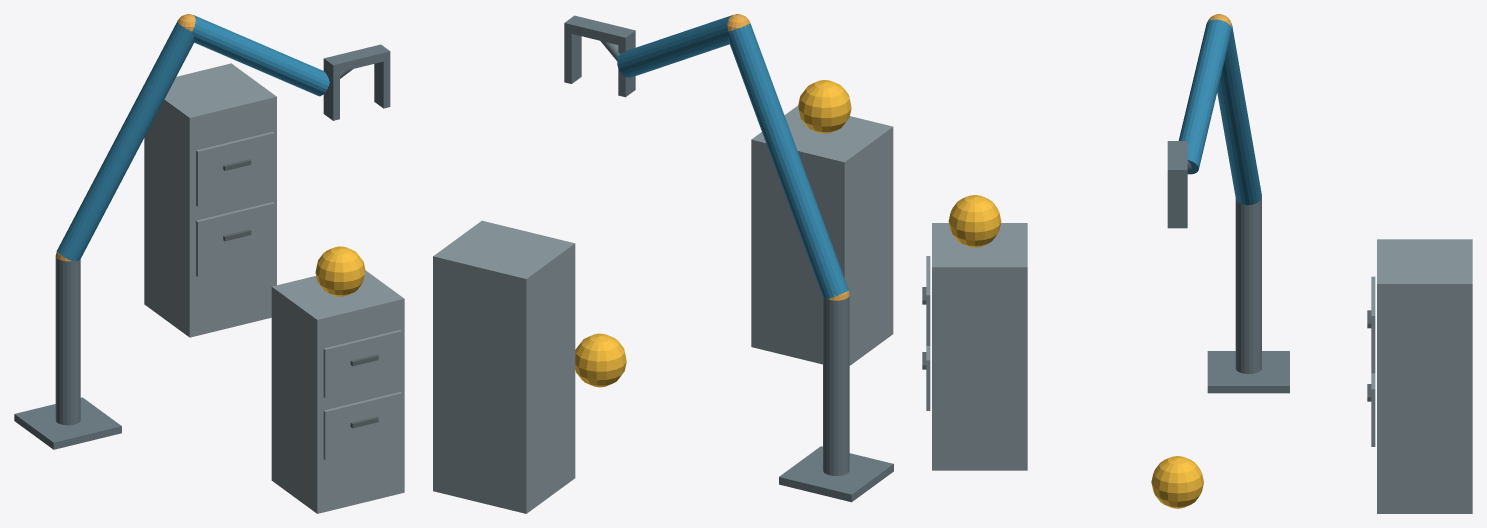
3 views of the same model, side by side, from view 1: azimuth 30°, elevation 25°; view 2: azimuth 150°, elevation 25°; view 3: azimuth 270°, elevation 25° (orthographic). The views are drawn at different scales.
Parts seen in each view (by area): view 1: cabinet_2 body, cabinet_1 body, moving link 1, cabinet_2 drawer front.001, cabinet_2 drawer front, fixed post, cabinet_1 drawer front.001, cabinet_1 drawer front, moving link 2, pedestal, released ball_1, gripper bridge (+2 smaller); view 2: cabinet_2 body, cabinet_1 body, moving link 1, fixed post, pedestal, moving link 2, released ball_1, ball ball_2, gripper bridge, gripper finger 1; view 3: cabinet_2 body, cabinet_1 body, fixed post, moving link 1, moving link 2, pedestal, ball ball_2, released ball_1, gripper finger 1, gripper bridge.
Part boxes in pixels (bbox=[...]): cabinet_2 body: bbox=[144, 63, 276, 337]; cabinet_1 body: bbox=[271, 270, 404, 513]; moving link 1: bbox=[57, 21, 194, 261]; cabinet_2 drawer front.001: bbox=[196, 131, 274, 206]; cabinet_2 drawer front: bbox=[196, 202, 274, 276]; fixed post: bbox=[55, 255, 80, 425]; cabinet_1 drawer front.001: bbox=[323, 330, 402, 398]; cabinet_1 drawer front: bbox=[323, 392, 402, 460]; moving link 2: bbox=[192, 15, 329, 96]; pedestal: bbox=[14, 397, 121, 449]; released ball_1: bbox=[315, 246, 365, 296]; gripper bridge: bbox=[323, 44, 390, 73]; cabinet_2 body: bbox=[433, 220, 575, 513]; cabinet_1 body: bbox=[751, 105, 893, 365]; moving link 1: bbox=[728, 23, 848, 299]; fixed post: bbox=[823, 296, 849, 475]; pedestal: bbox=[779, 446, 893, 502]; moving link 2: bbox=[617, 15, 732, 77]; released ball_1: bbox=[798, 80, 851, 133]; ball ball_2: bbox=[575, 333, 626, 387]; gripper bridge: bbox=[564, 15, 635, 46]; gripper finger 1: bbox=[564, 32, 581, 83]; cabinet_2 body: bbox=[1377, 239, 1472, 513]; cabinet_1 body: bbox=[932, 223, 1027, 470]; fixed post: bbox=[1235, 197, 1261, 373]; moving link 1: bbox=[1217, 24, 1261, 205]; moving link 2: bbox=[1178, 19, 1231, 174]; pedestal: bbox=[1207, 351, 1289, 393]; ball ball_2: bbox=[1151, 456, 1203, 508]; released ball_1: bbox=[948, 195, 1001, 247]; gripper finger 1: bbox=[1167, 179, 1187, 228]; gripper bridge: bbox=[1167, 141, 1187, 178].
Size of the model in its own units: 1.17 by 1.39 by 1.67.
